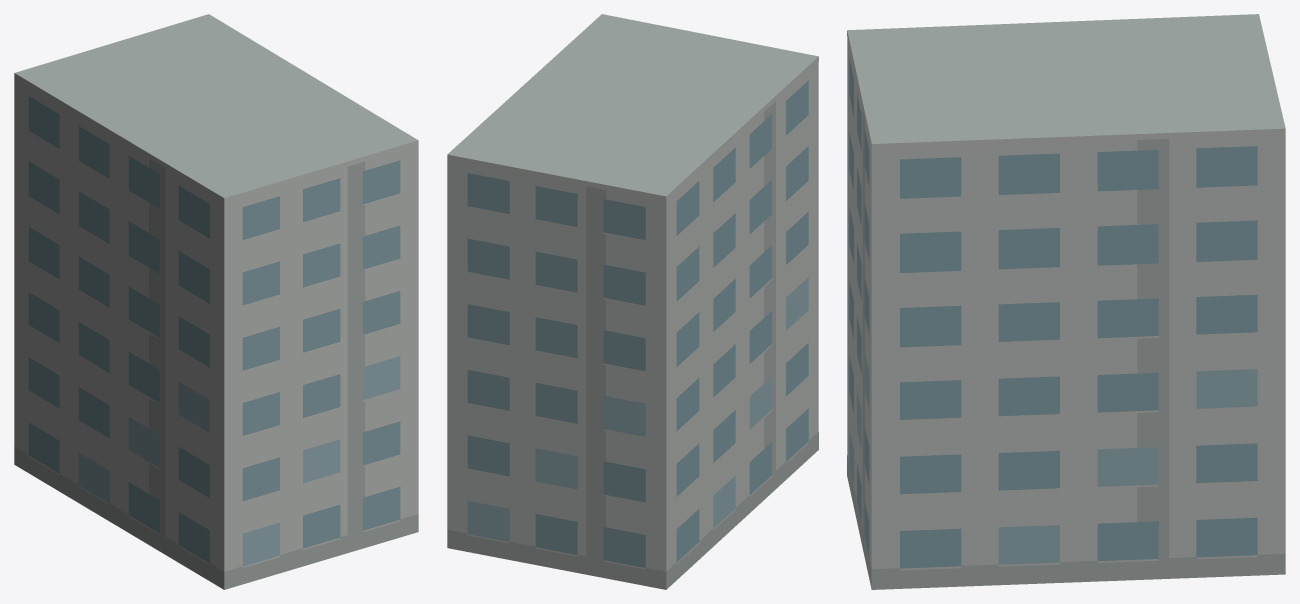
File: survey-upis-32609829.glb
3 views of the same model, side by side, from view 1: azimuth 30°, elevation 25°; view 2: azimuth 150°, elevation 25°; view 3: azimuth 270°, elevation 25° (orthographic). The views are drawn at different scales.
Visible parts, largest first — view 1: survey-upis-32609829.tmp; view 2: survey-upis-32609829.tmp; view 3: survey-upis-32609829.tmp.
Boxes of the visible parts, <box> form: survey-upis-32609829.tmp: <box>14,14,418,589</box>; survey-upis-32609829.tmp: <box>447,14,818,589</box>; survey-upis-32609829.tmp: <box>847,14,1285,589</box>.
Size of the model in its own units: 11.46 by 18.3 by 16.32.
